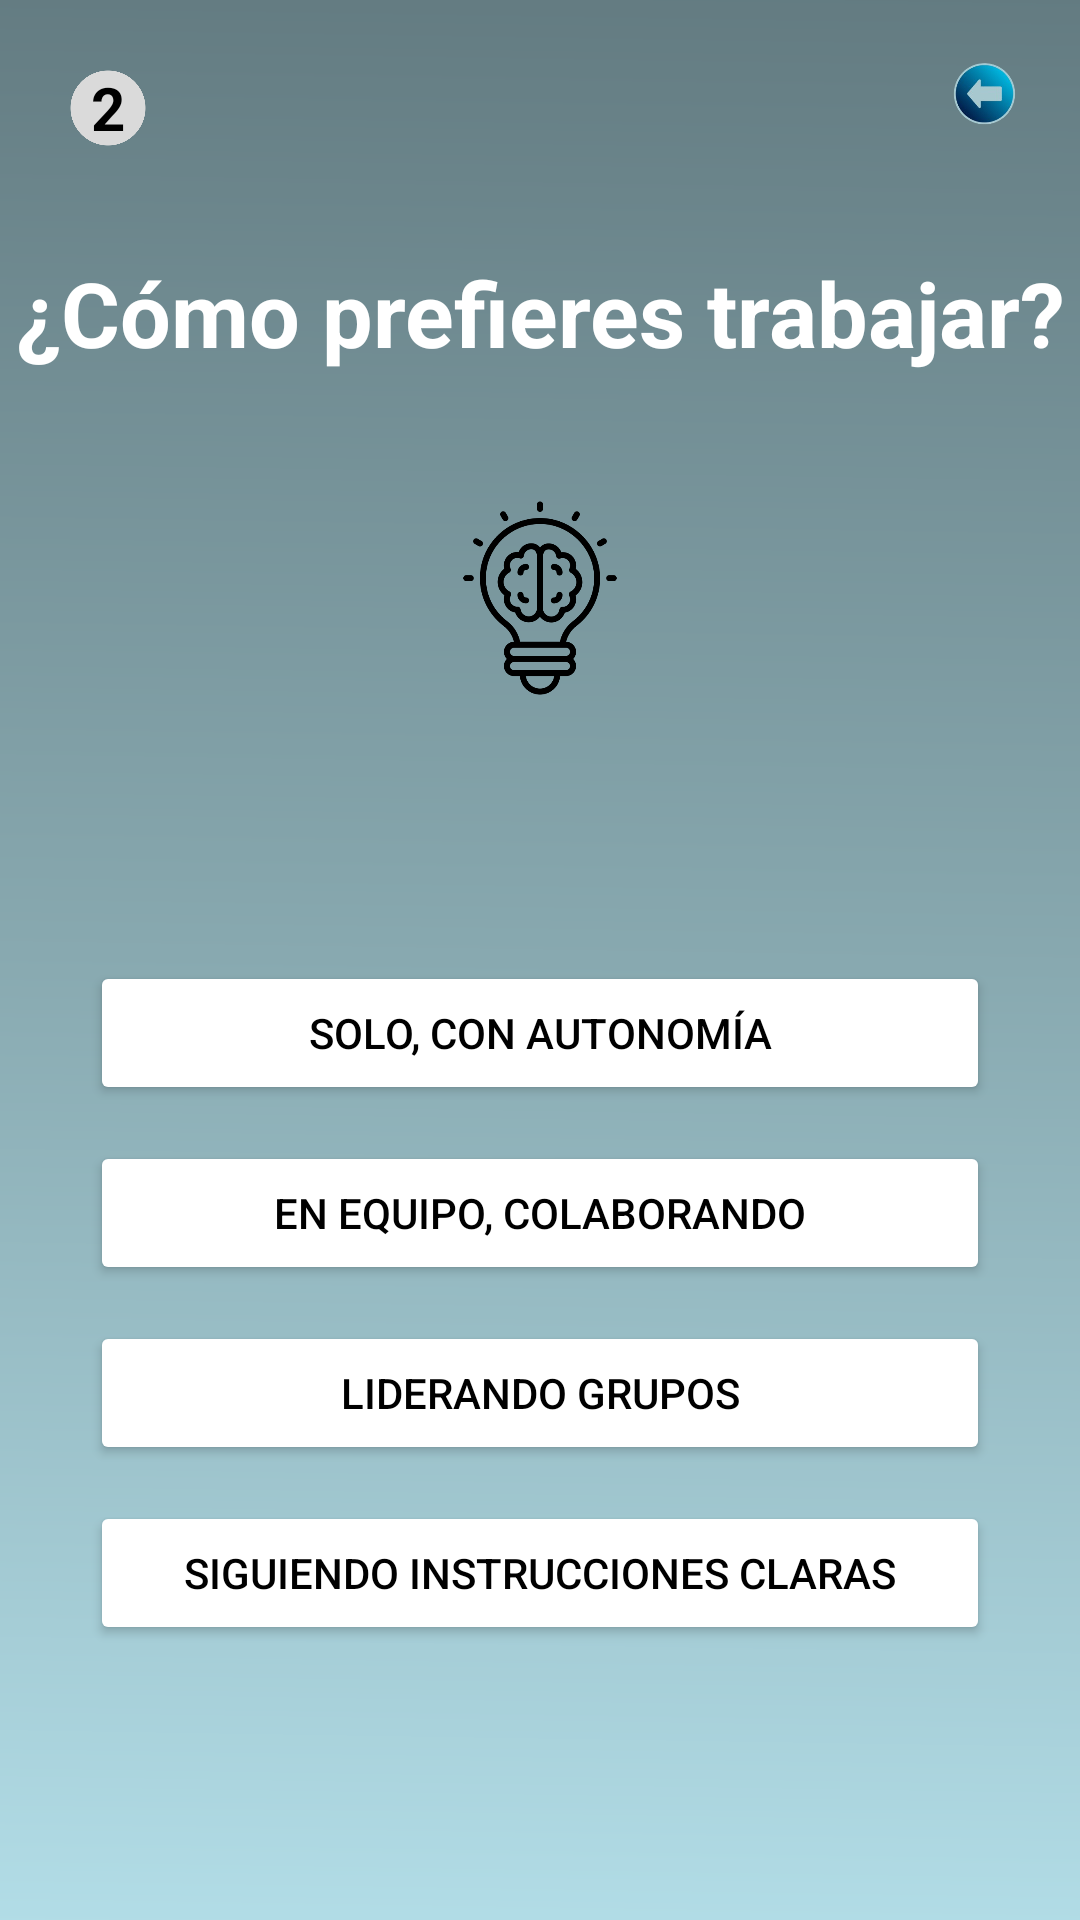

Named icons in this screenshot (1080px x 1920px) and their bounding boxes, (x1, y1, x2, y2):
idea: (463, 501, 617, 695)
retroceso: (954, 63, 1015, 124)
